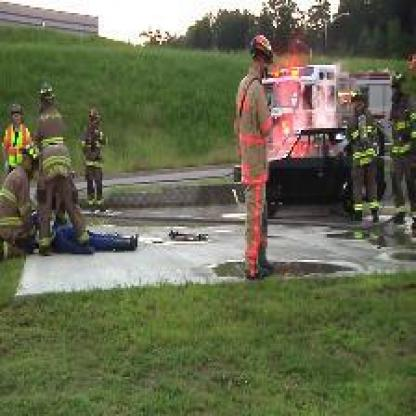other: (263, 49, 326, 72)
